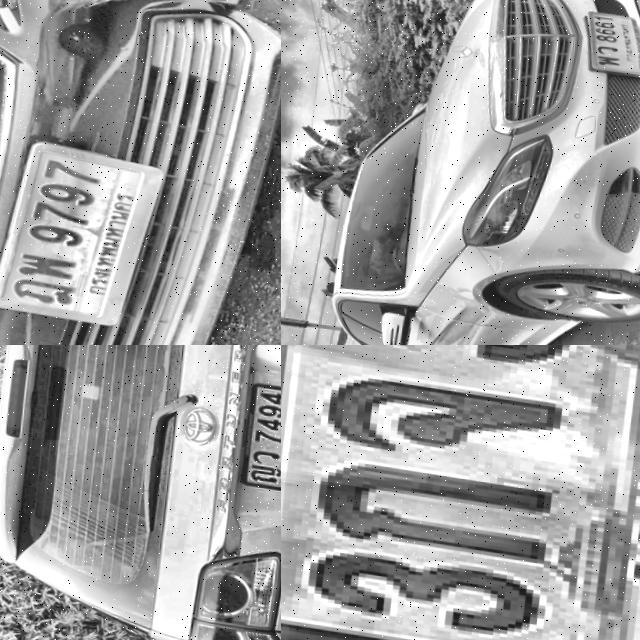license-plate: (281, 345, 640, 640), (0, 133, 172, 326), (240, 373, 281, 488), (580, 0, 640, 68)
